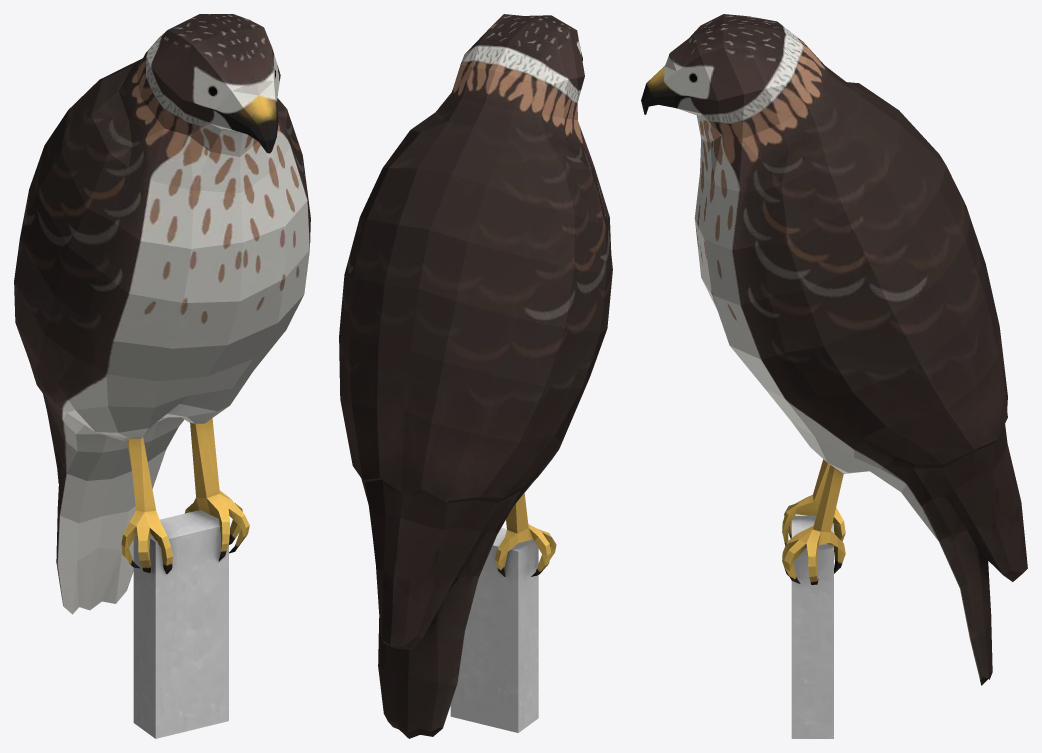
Rendered from 8CDZPdQuNDe.glb.
3 renders of one model, left to right at view 1: azimuth 30°, elevation 25°; view 2: azimuth 150°, elevation 25°; view 3: azimuth 270°, elevation 25°, orthographic. The views are drawn at different scales.
Parts seen in each view (by area): view 1: NorthernHarrier_Mesh; view 2: NorthernHarrier_Mesh; view 3: NorthernHarrier_Mesh.
Part boxes in pixels (bbox=[...]): NorthernHarrier_Mesh: bbox=[14, 14, 310, 738]; NorthernHarrier_Mesh: bbox=[339, 14, 612, 738]; NorthernHarrier_Mesh: bbox=[641, 14, 1027, 738].
Size of the model in its own units: 0.349 by 1 by 0.5028.
Materials: 1 (1 with a texture image).
